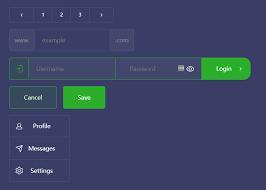button: (10, 138, 70, 161), (10, 161, 70, 183), (10, 117, 71, 138), (10, 87, 58, 110), (202, 59, 252, 80), (64, 87, 107, 110)
input: (29, 58, 117, 80), (117, 58, 202, 80), (35, 30, 111, 52)
